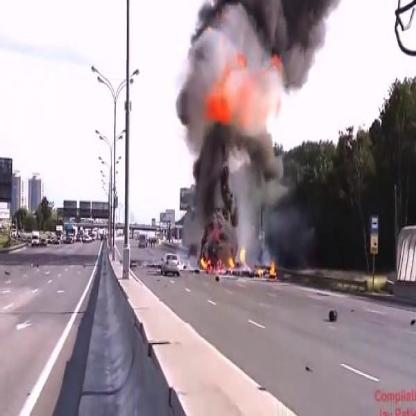fire: (202, 48, 249, 125), (200, 254, 213, 277), (228, 252, 236, 275), (240, 244, 246, 269), (270, 258, 275, 278)
